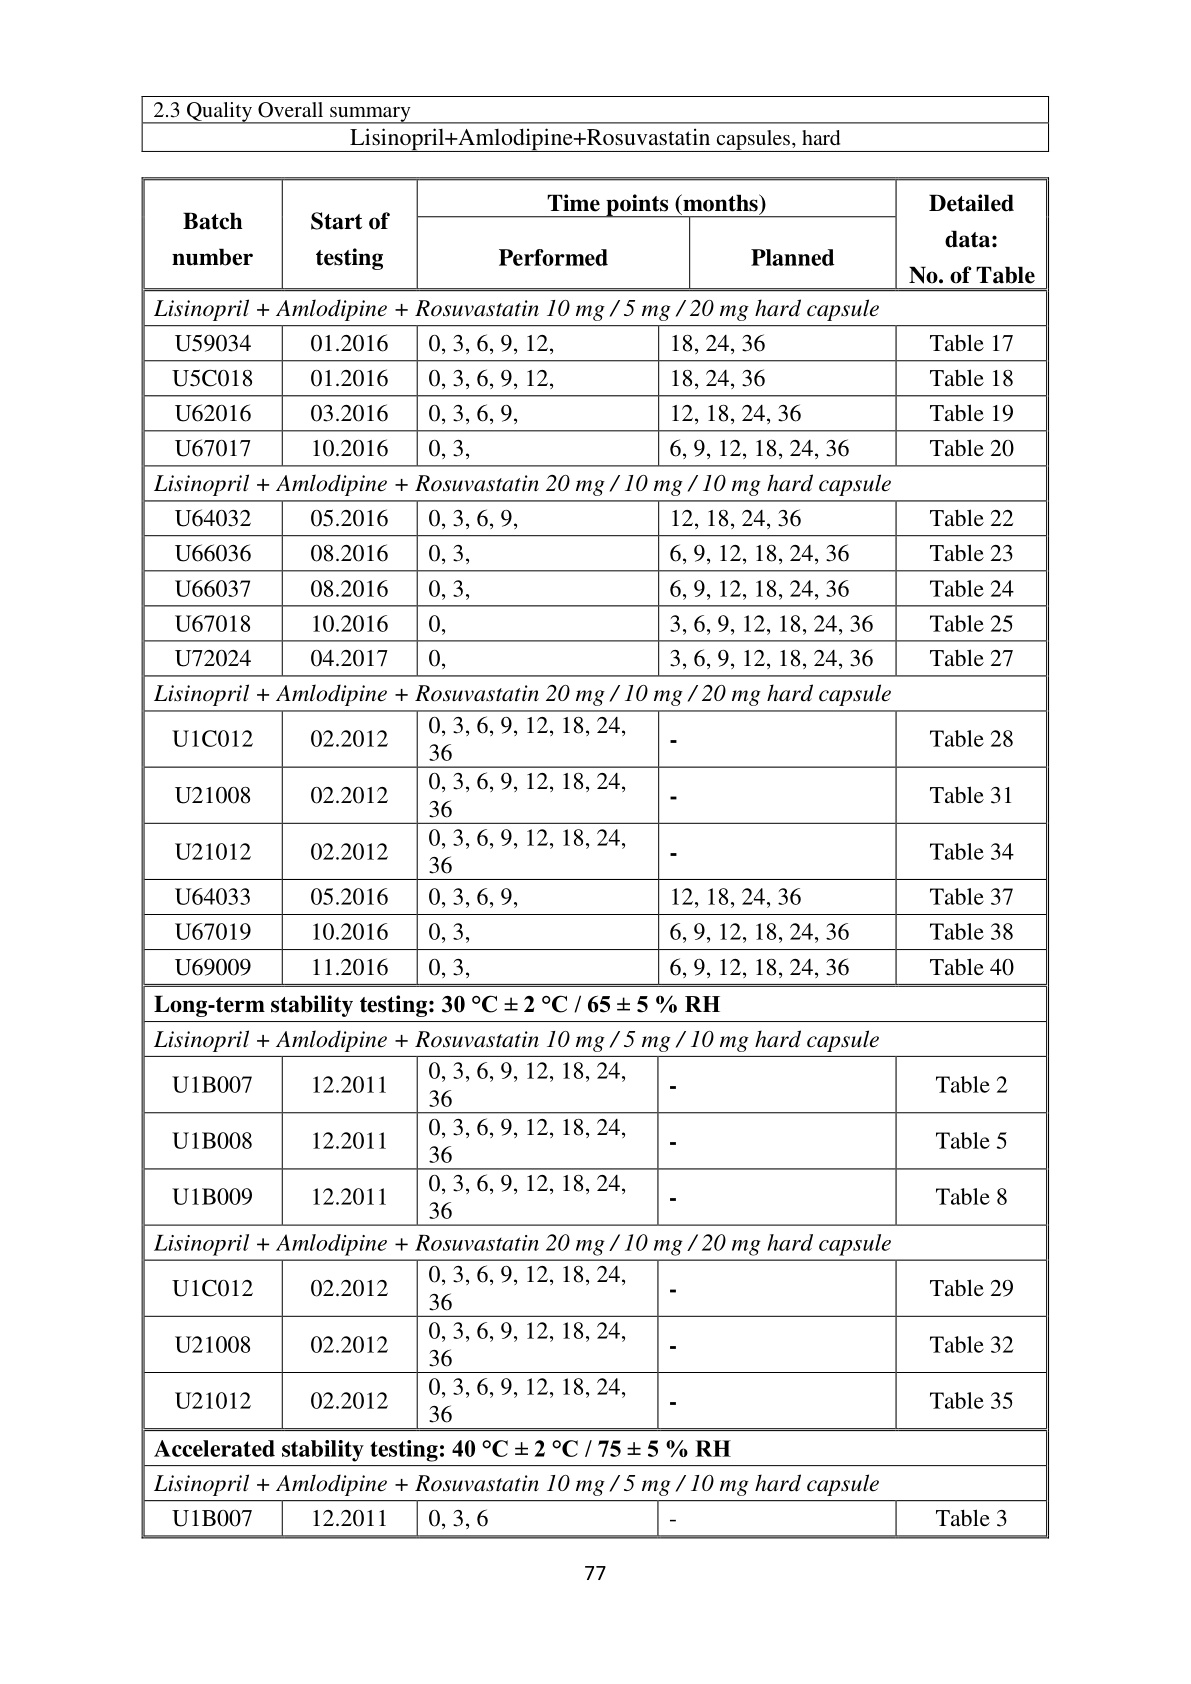full_lined: (140, 95, 1049, 152)
merged_cells: (140, 177, 1049, 1538)
